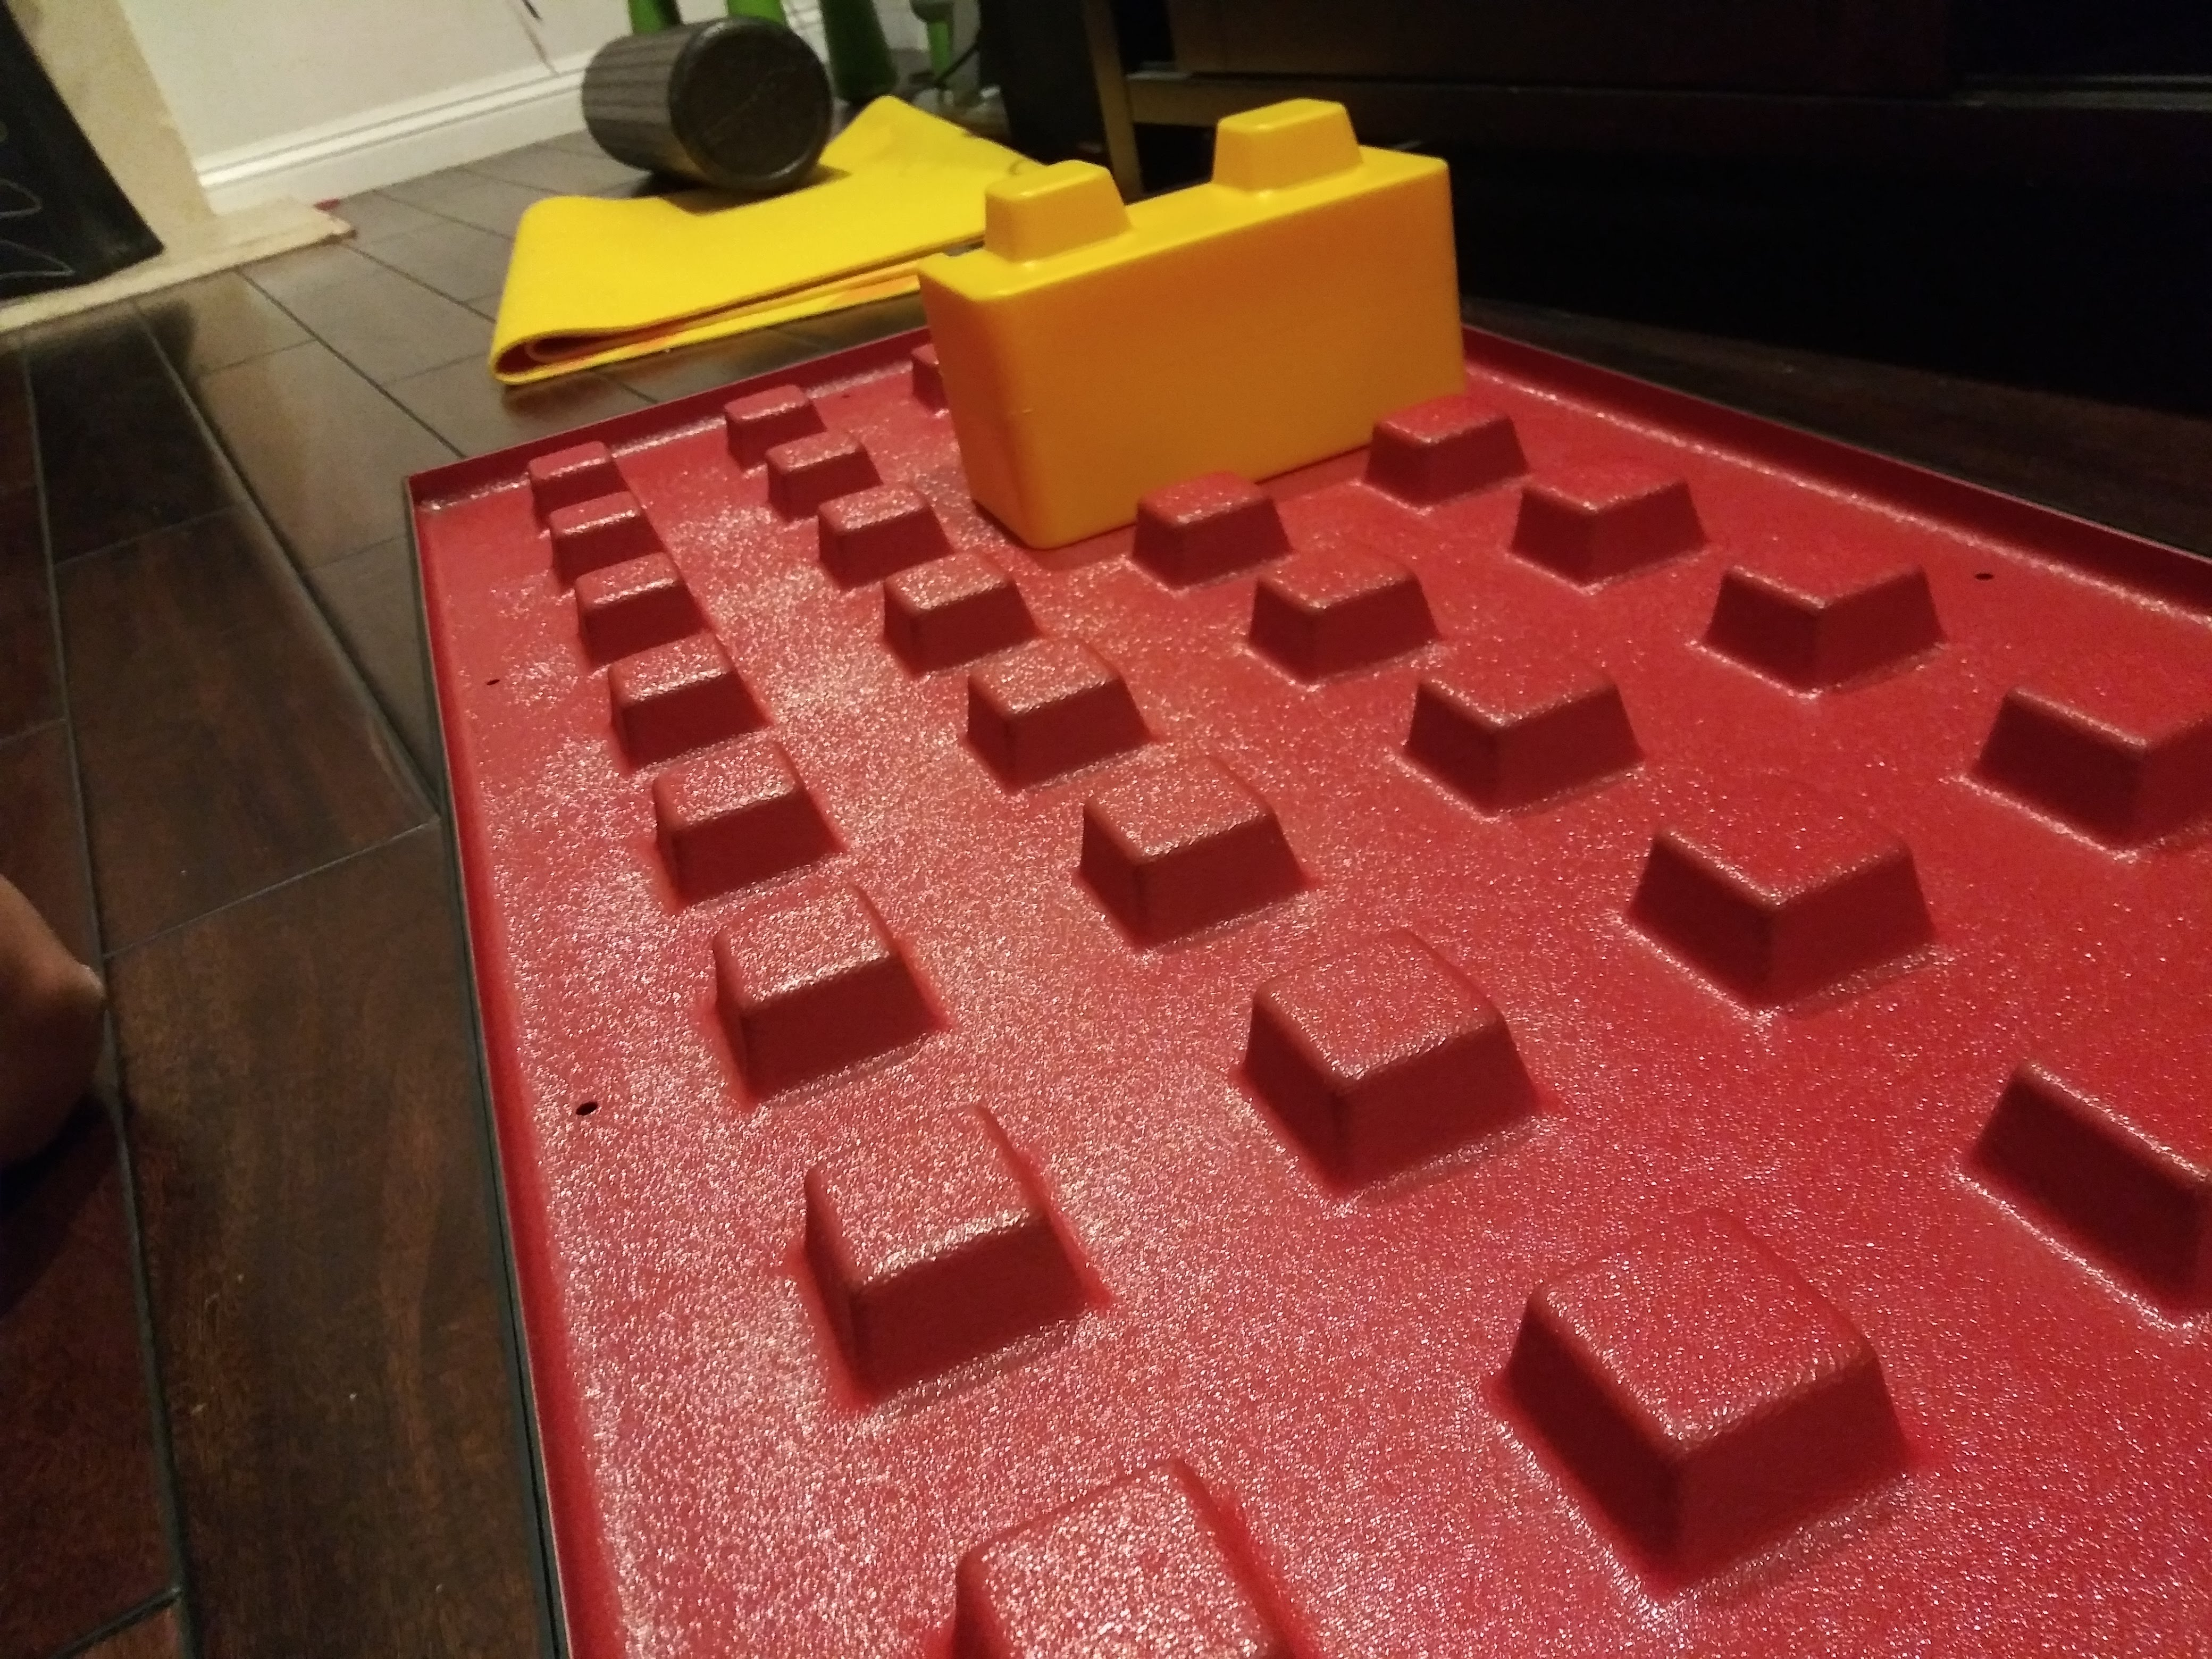red foundation: (406, 376, 2170, 1600)
